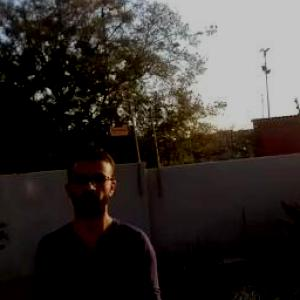follow: (28, 138, 168, 299)
